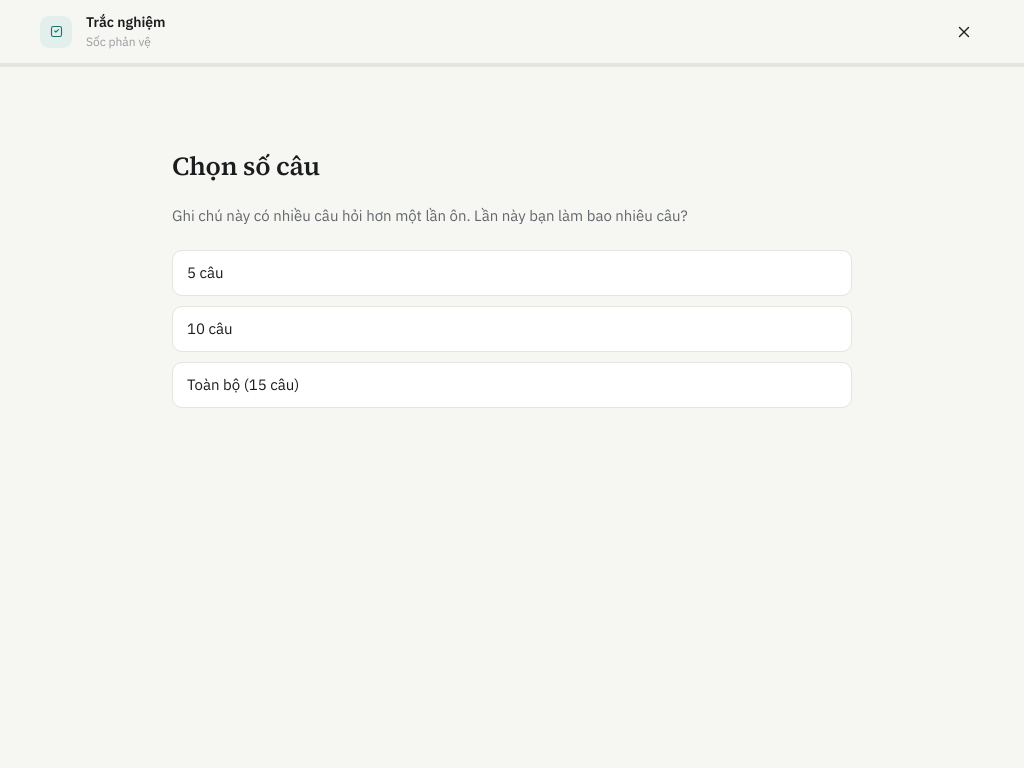
Test case: QuizController › hỏi số câu trước khi soạn đề khi bộ câu hỏi đủ lớn
Expected: the text "Chọn số câu" is shown, [172,148,320,184]
Expected: the button "Toàn bộ (15 câu)" is shown, [172,362,852,408]
Click the button "10 câu" at (210, 328), box [172,306,852,352]
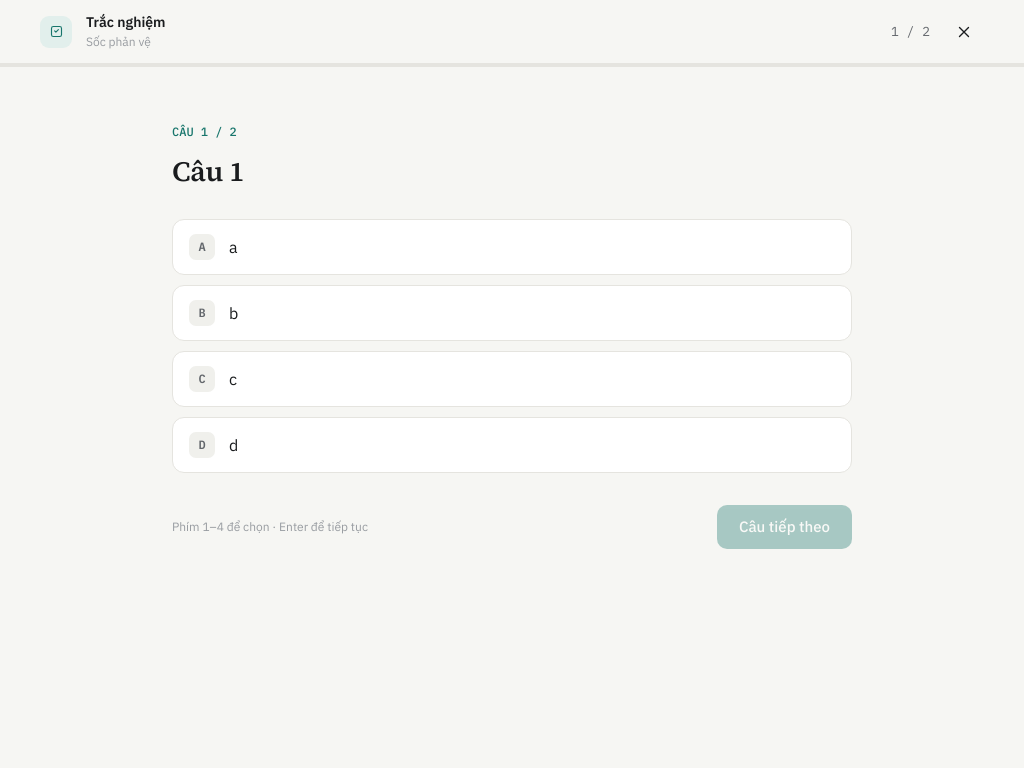
Result: the heading "Câu 1" is shown at [172,152,244,190]
